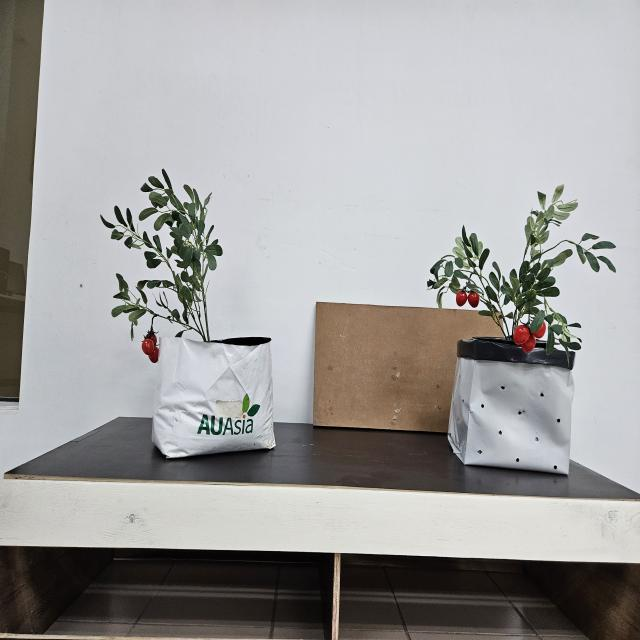Soilbag: (448, 339, 575, 477), (151, 330, 277, 461)
Tomato: (513, 310, 553, 353), (138, 329, 160, 365), (456, 283, 484, 308)
plant: (426, 185, 617, 356), (100, 169, 223, 364)
